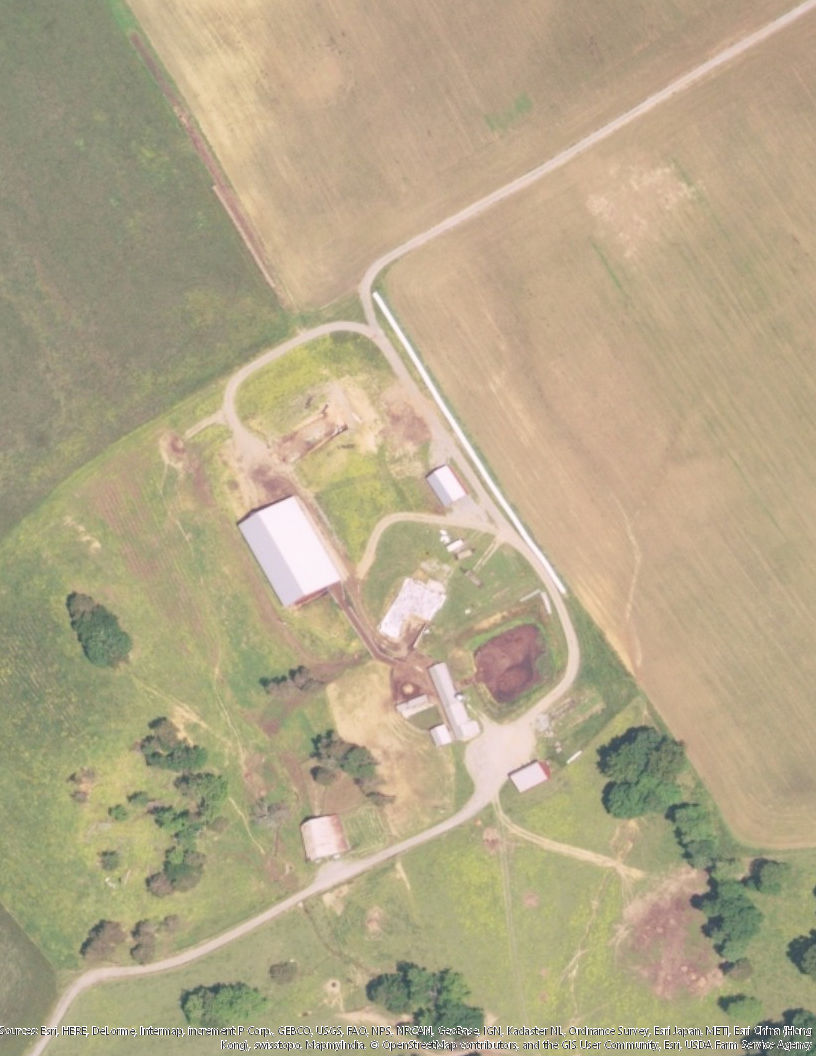cafo: (230, 488, 353, 608), (423, 458, 477, 515)
